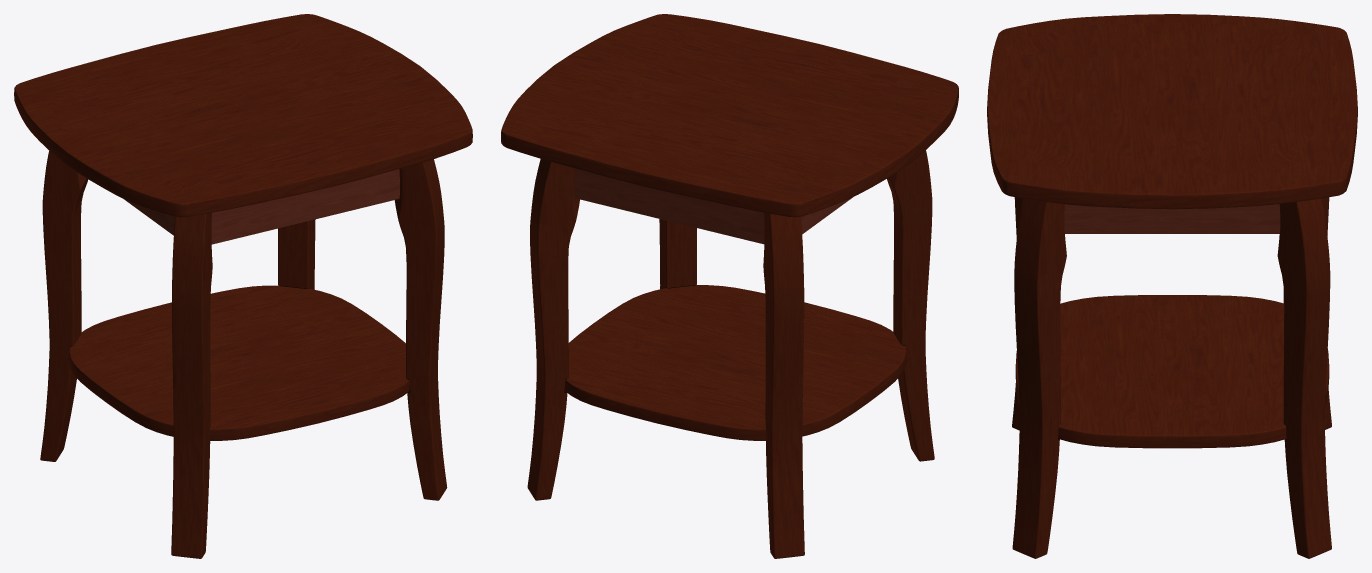
The model's file is table_B07DBB7N9L.glb.
3 renders of one model, left to right at view 1: azimuth 30°, elevation 25°; view 2: azimuth 150°, elevation 25°; view 3: azimuth 270°, elevation 25°, orthographic. The views are drawn at different scales.
Parts seen in each view (by area): view 1: RootNode; view 2: RootNode; view 3: RootNode.
Boxes of the visible parts, <box> form: RootNode: <box>14,14,472,558</box>; RootNode: <box>501,14,958,558</box>; RootNode: <box>987,14,1357,558</box>.
Size of the model in its own units: 0.5021 by 0.4957 by 0.4333.
1 material, 1 textured.
